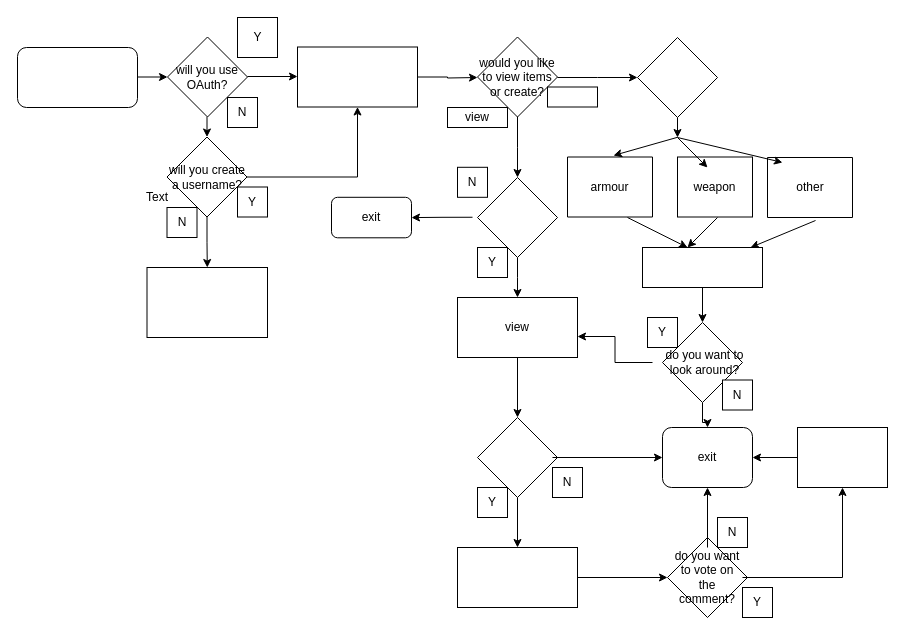
This 905x635 diagram has some shape labels left out. Here are the shapes that lost their labels. From the top down, the centre of each, then its label:
At pixel 77 77: "welcome page".
At pixel 357 76: "sign in".
At pixel 572 96: "create".
At pixel 677 77: "select item type".
At pixel 517 217: "do you see an item you want to view details of?".
At pixel 702 267: "post".
At pixel 207 302: "you can read only. access to posts and votes but not creations".
At pixel 517 457: "do you want to comment on post?".
At pixel 842 457: "vote".
At pixel 517 577: "comment".
